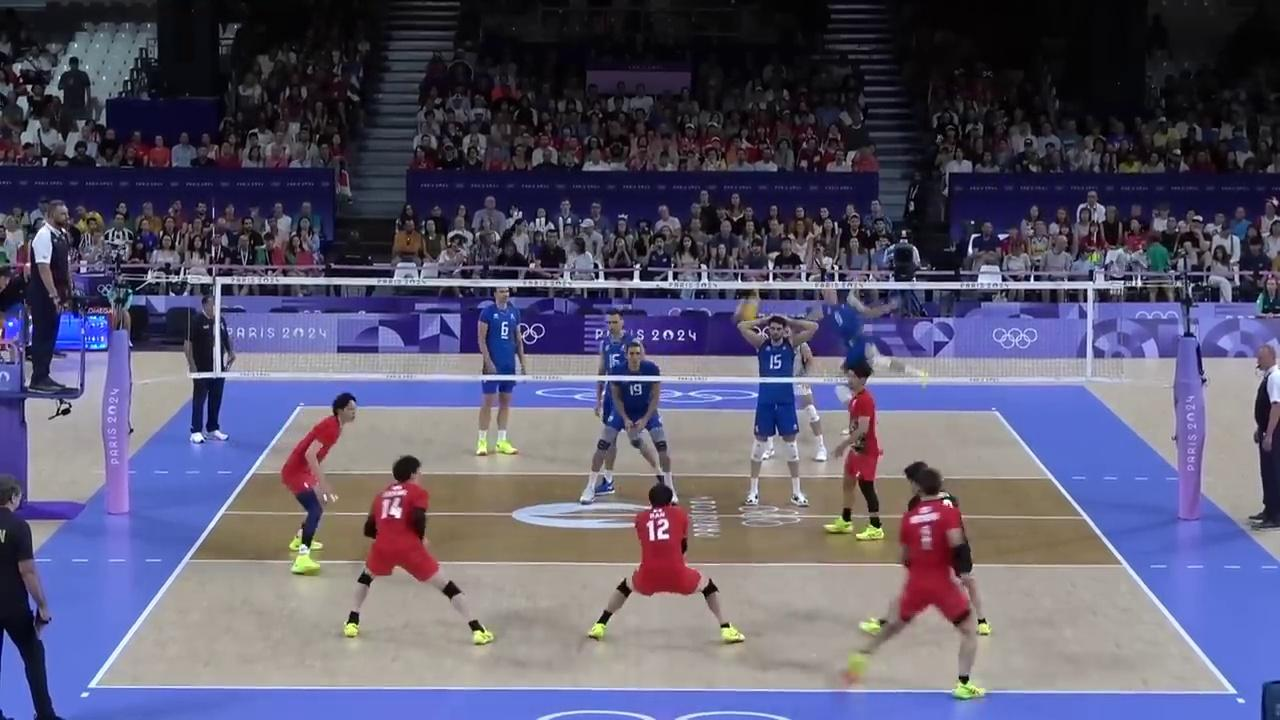ball: (734, 299, 757, 319)
